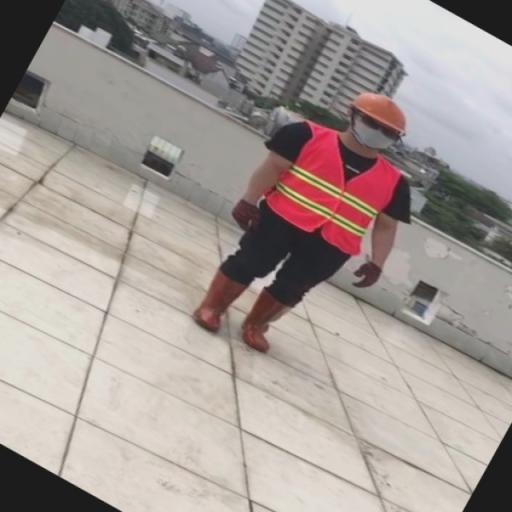Person: (194, 34, 428, 462)
boots: (236, 283, 298, 356), (188, 264, 248, 337)
gloves: (229, 200, 261, 230), (350, 261, 384, 288)
helmet: (348, 89, 406, 134)
vest: (253, 124, 401, 266)
